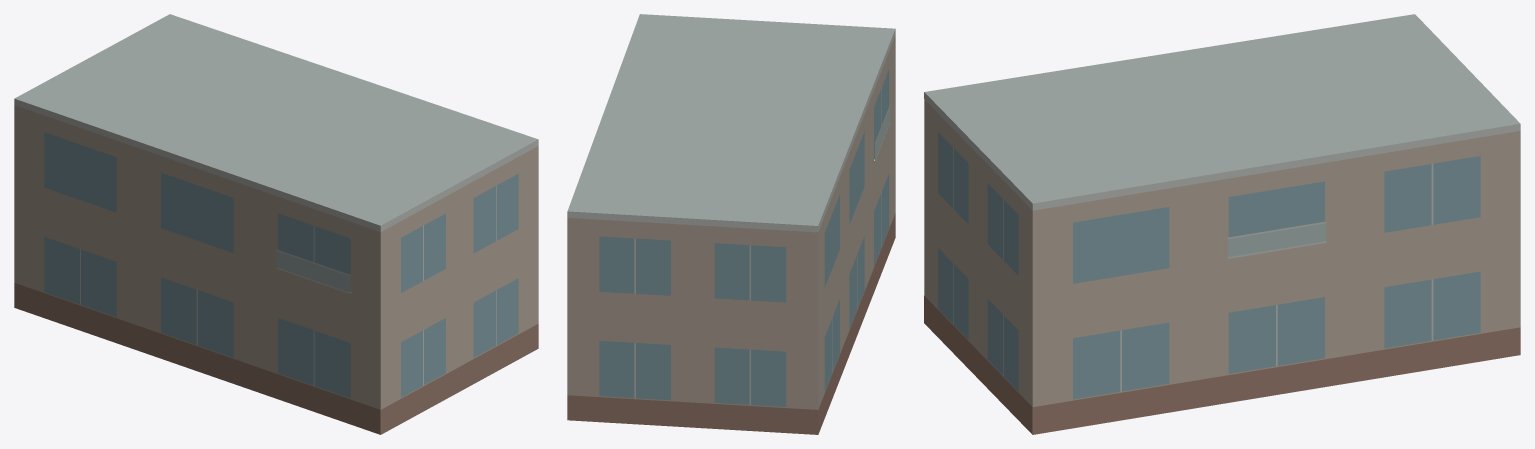
File: survey-upis-32941718.glb
The picture shows the model from 3 angles, left to right: view 1: azimuth 30°, elevation 25°; view 2: azimuth 150°, elevation 25°; view 3: azimuth 270°, elevation 25°; orthographic projection. The views are drawn at different scales.
Parts seen in each view (by area): view 1: survey-upis-32941718.tmp; view 2: survey-upis-32941718.tmp; view 3: survey-upis-32941718.tmp.
Boxes of the visible parts, left/top/right/bottom form: survey-upis-32941718.tmp: left=14, top=14, right=538, bottom=434; survey-upis-32941718.tmp: left=567, top=14, right=895, bottom=434; survey-upis-32941718.tmp: left=924, top=14, right=1520, bottom=434.
Bounding box in the file's own units: 13.99 × 7.95 × 18.59.
